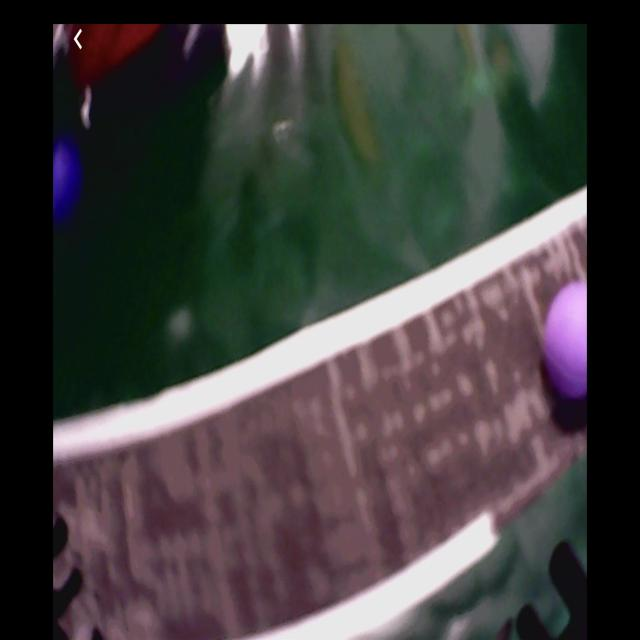ball: (546, 275, 587, 413), (53, 136, 84, 231)
